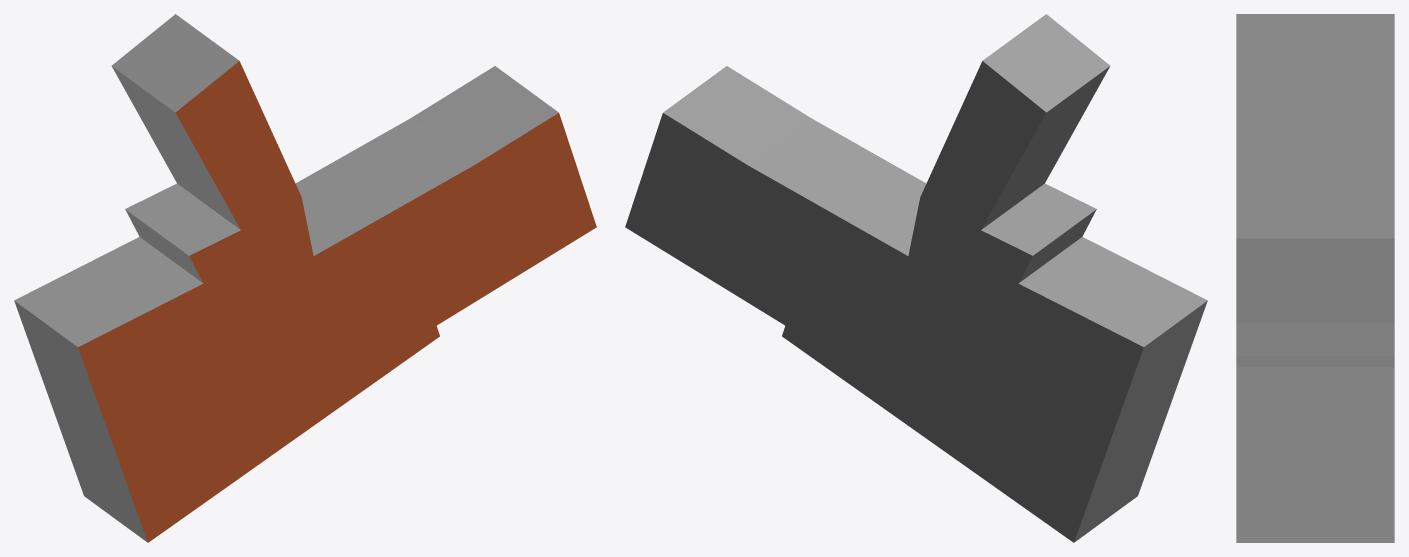
Rendered from construction_1883_assumed_A_Casa_h6m.obj.
3 renders of one model, left to right at view 1: azimuth 30°, elevation 25°; view 2: azimuth 150°, elevation 25°; view 3: azimuth 270°, elevation 25°, orthographic. The views are drawn at different scales.
Parts seen in each view (by area): view 1: construction_1883_assumed_A_Casa; view 2: construction_1883_assumed_A_Casa; view 3: construction_1883_assumed_A_Casa.
Boxes of the visible parts, <box> form: construction_1883_assumed_A_Casa: <box>14,14,596,542</box>; construction_1883_assumed_A_Casa: <box>625,14,1207,542</box>; construction_1883_assumed_A_Casa: <box>1236,14,1394,542</box>.
Bounding box in the file's own units: 28.1 × 23.8 × 6.
